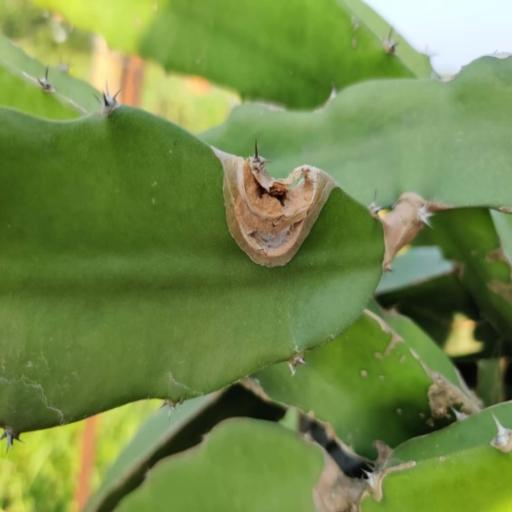stemcanker: (332, 358, 432, 432), (0, 337, 89, 418), (118, 159, 198, 223)
